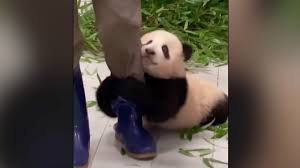panda: (91, 20, 225, 148)
